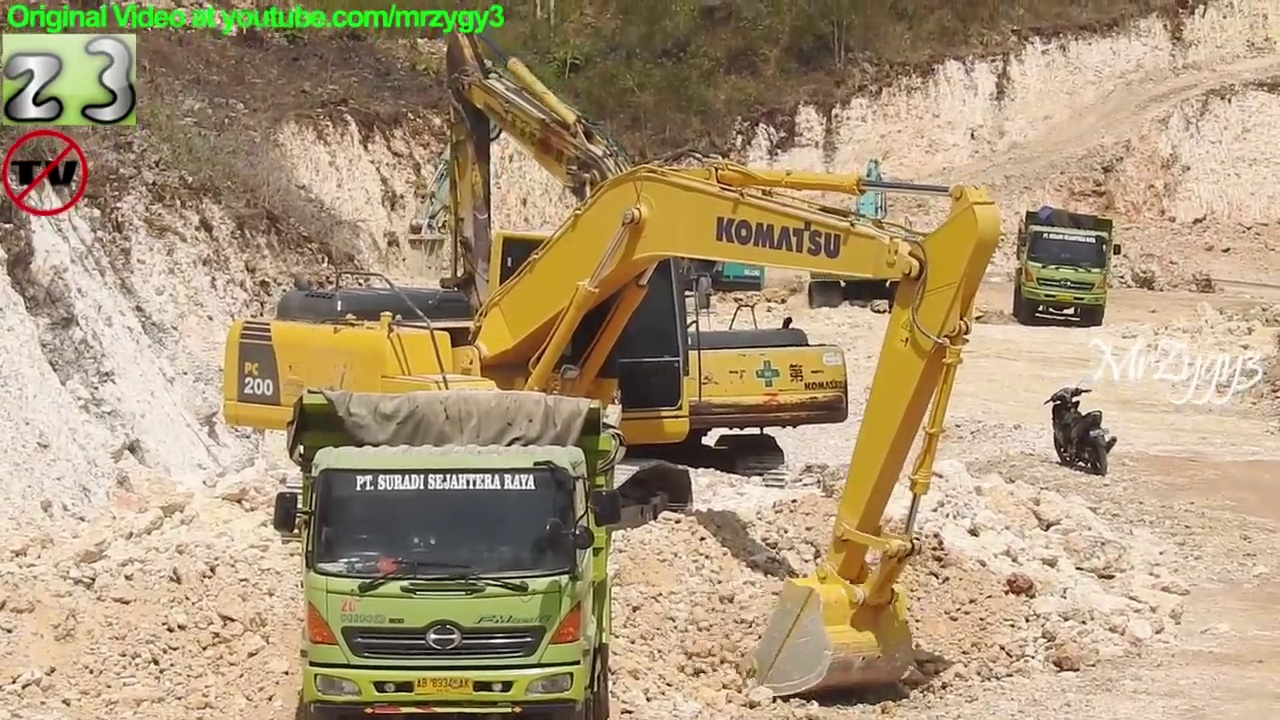excavator: (213, 143, 1009, 706), (402, 19, 857, 503), (395, 51, 778, 326), (799, 151, 929, 316)
truck: (267, 385, 631, 720), (1010, 205, 1129, 333)
